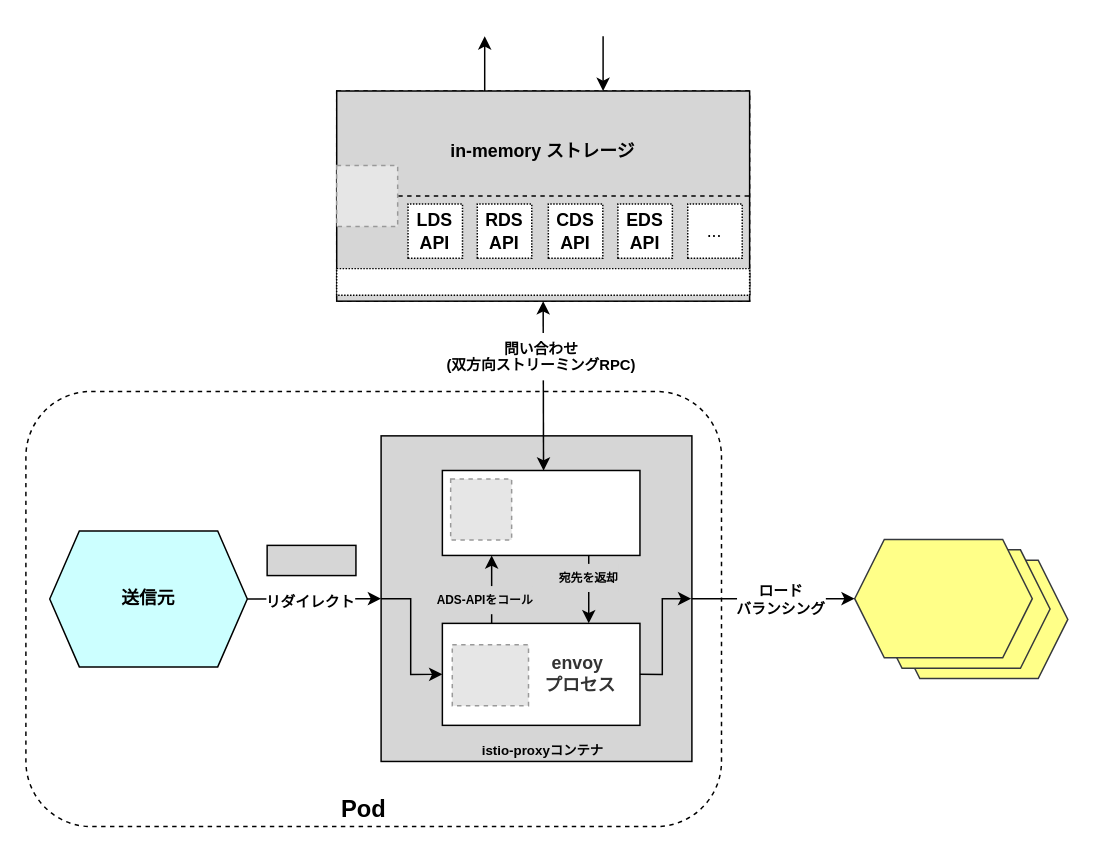
This 1095x852 diagram has some shape labels left out. Grey dashed boxes stand in for pictures. Each missing label, with the box of its shape:
ADS-API: (335, 267, 750, 295)
iptables: (266, 544, 356, 576)
pilot-agent プロセス: (441, 469, 640, 555)
宛先: (853, 538, 1032, 658)
